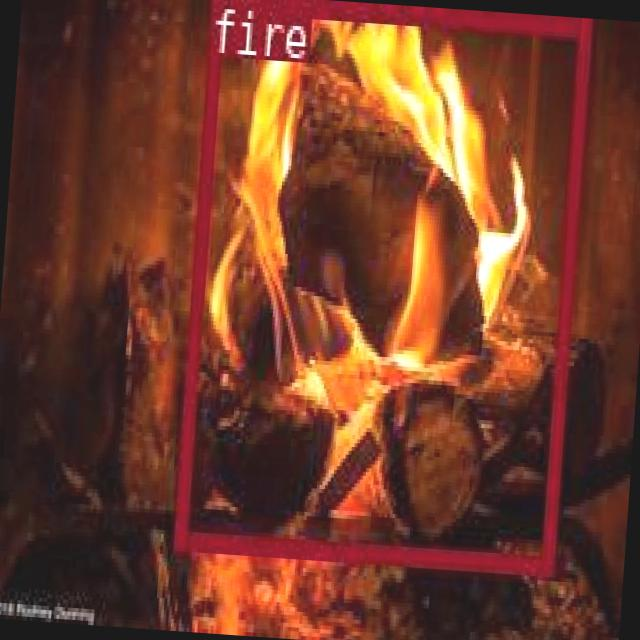fire: (172, 0, 589, 572)
